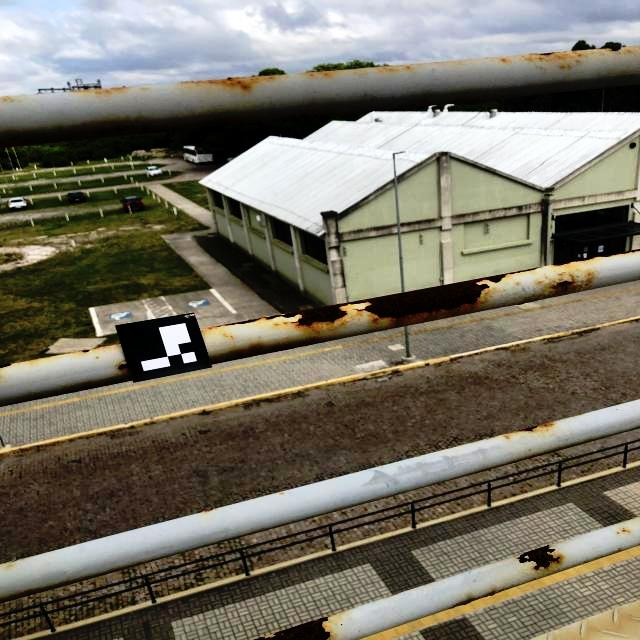Corrosion: (213, 249, 640, 333), (522, 46, 631, 66), (252, 614, 333, 640), (181, 74, 290, 90), (515, 544, 563, 571), (547, 272, 594, 295), (510, 421, 556, 432), (69, 87, 130, 95), (304, 71, 336, 76), (118, 363, 128, 371), (0, 364, 13, 369), (80, 350, 92, 354), (114, 128, 124, 132)
